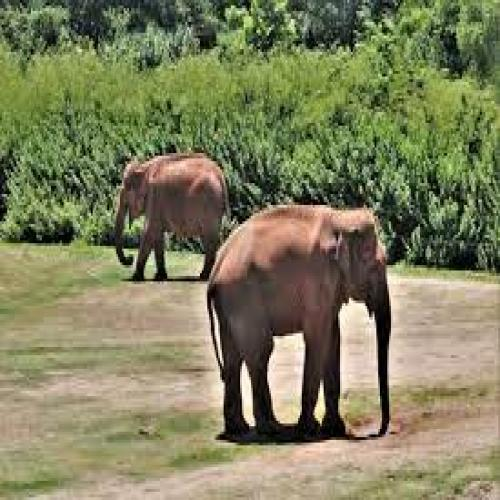asian_elephant-endangered: (208, 202, 394, 444), (115, 154, 229, 277)
